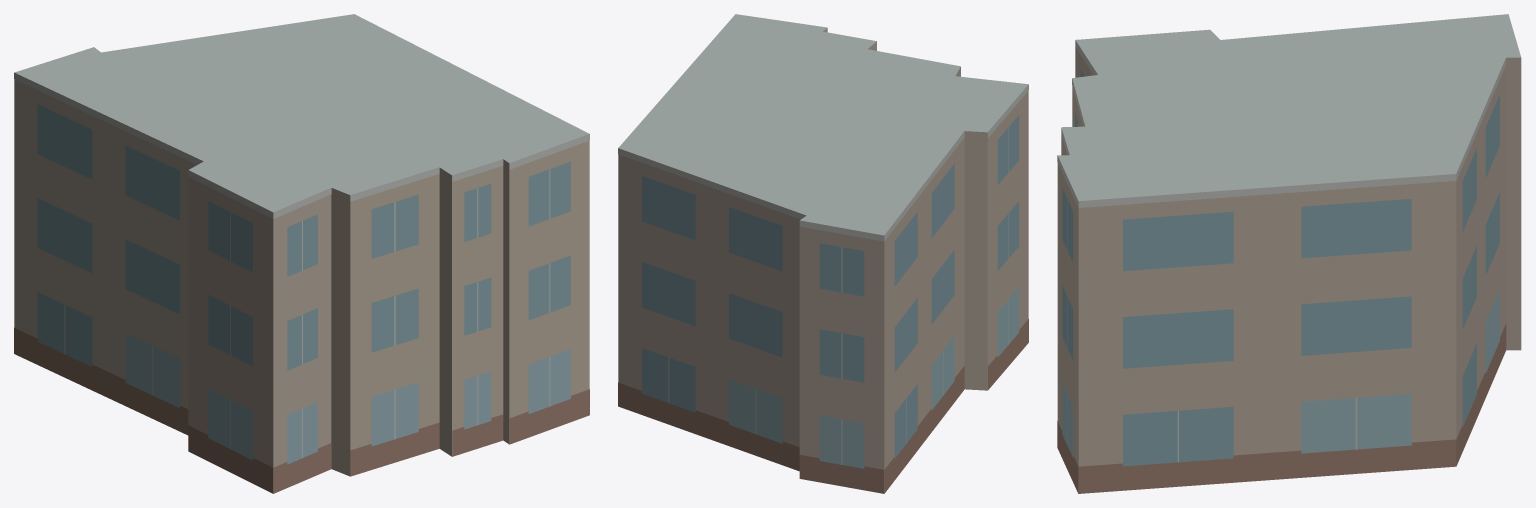
Rendered from survey-upis-32500972.glb.
3 renders of one model, left to right at view 1: azimuth 30°, elevation 25°; view 2: azimuth 150°, elevation 25°; view 3: azimuth 270°, elevation 25°, orthographic. The views are drawn at different scales.
Parts seen in each view (by area): view 1: survey-upis-32500972.tmp; view 2: survey-upis-32500972.tmp; view 3: survey-upis-32500972.tmp.
Boxes of the visible parts, box(x1,y1,x2,y2) form: survey-upis-32500972.tmp: box(14, 14, 589, 493); survey-upis-32500972.tmp: box(618, 14, 1028, 493); survey-upis-32500972.tmp: box(1057, 14, 1521, 493).
Size of the model in its own units: 14.28 by 10.4 by 14.95.
